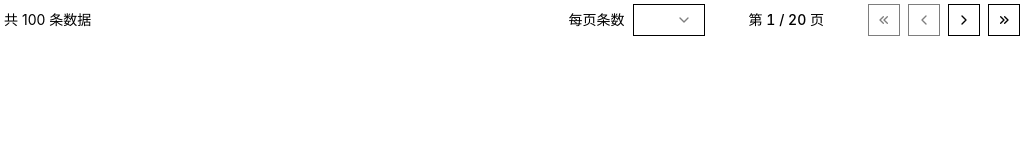
Test: enters editing, selects the current page and submits on Enter
Click the button named "前往下一页". click: (964, 20)
box: [948, 4, 980, 36]
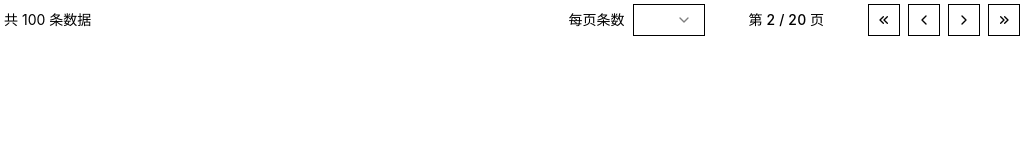
Click the button named "跳转页码". click: (786, 20)
box: [737, 4, 836, 36]
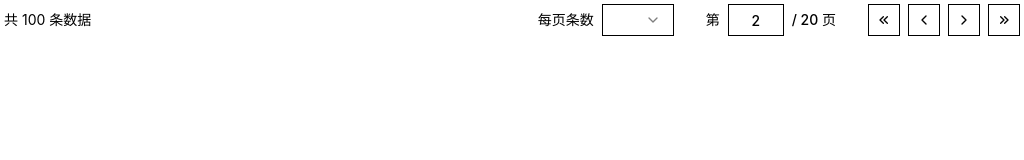
Expected: the field named "跳转页码" holds "2", [728, 4, 784, 36]
Type keys "8"
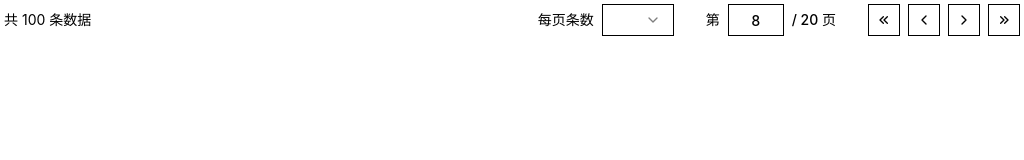
Expected: the field named "跳转页码" holds "8", [728, 4, 784, 36]
Press Enter
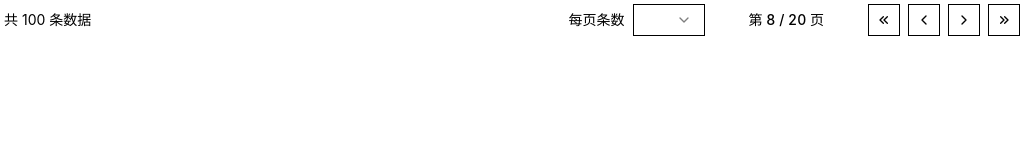
Expected: the field is gone
Expected: the button named "跳转页码" reads "第 8 / 20 页", [737, 4, 836, 36]
Click the button named "前往下一页". click: (964, 20)
box: [948, 4, 980, 36]
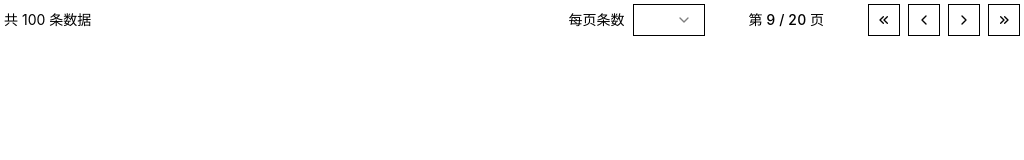
Expected: the button named "跳转页码" reads "第 9 / 20 页", [737, 4, 836, 36]
